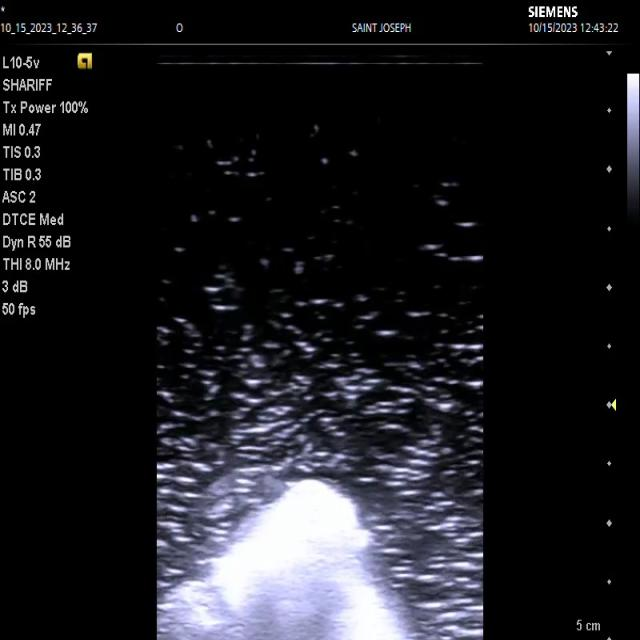tissue: (159, 479, 414, 640)
